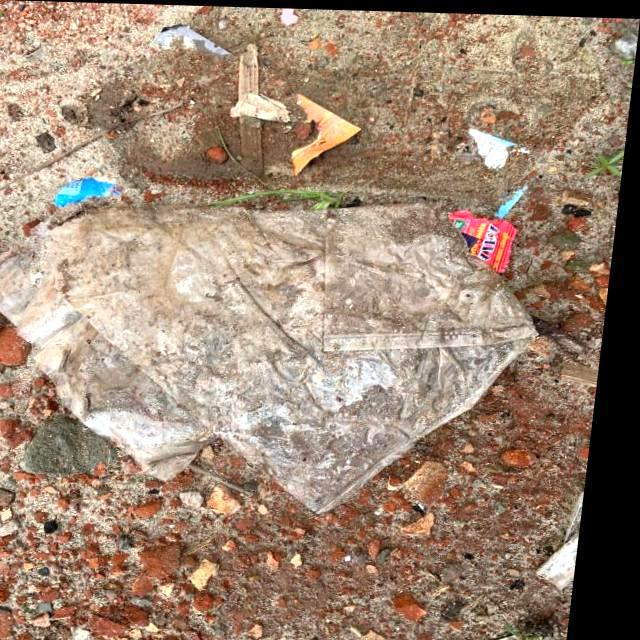polythene: (39, 51, 556, 562)
